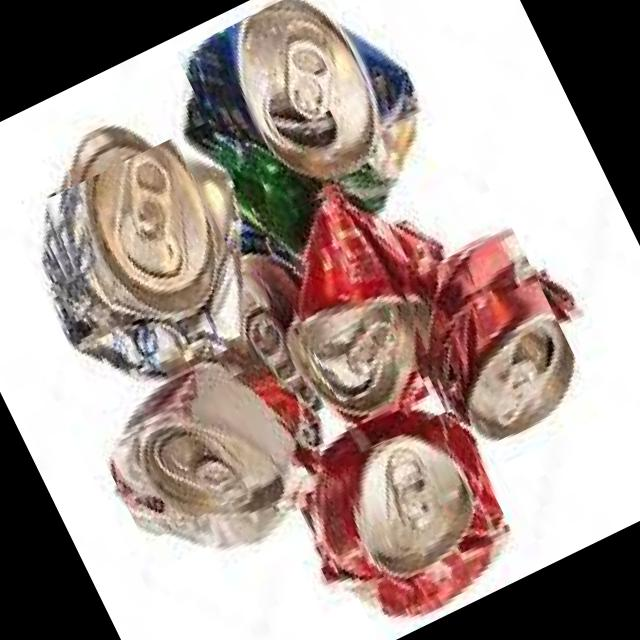Cans: (173, 0, 429, 235), (26, 136, 252, 370), (380, 223, 592, 456), (94, 358, 314, 542), (328, 408, 518, 607), (274, 228, 426, 402)
